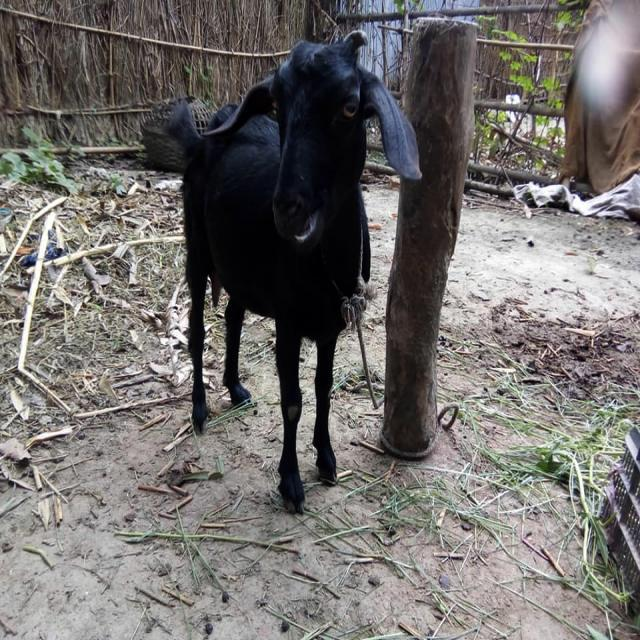Goat: (163, 28, 423, 514)
